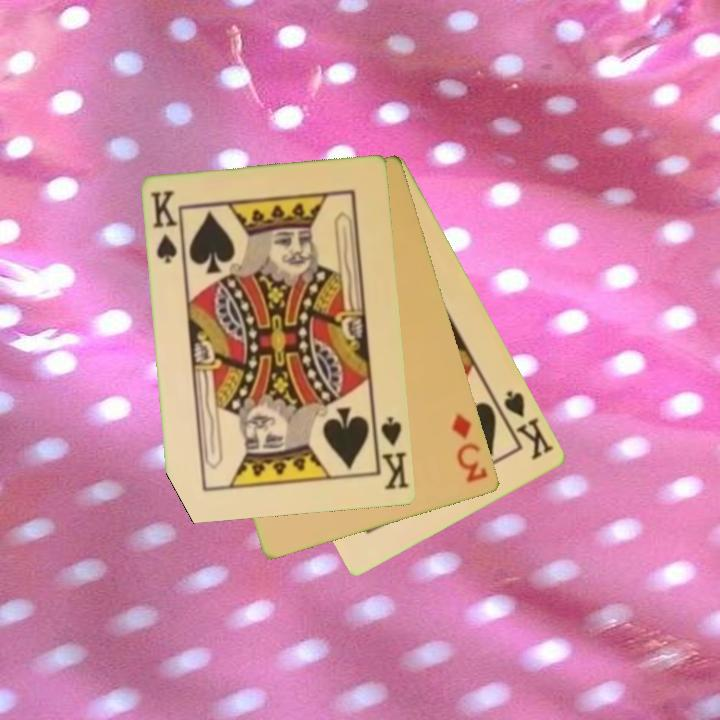3d: (449, 410, 492, 486)
Ks: (492, 387, 557, 463), (371, 413, 412, 493), (147, 187, 181, 267)
